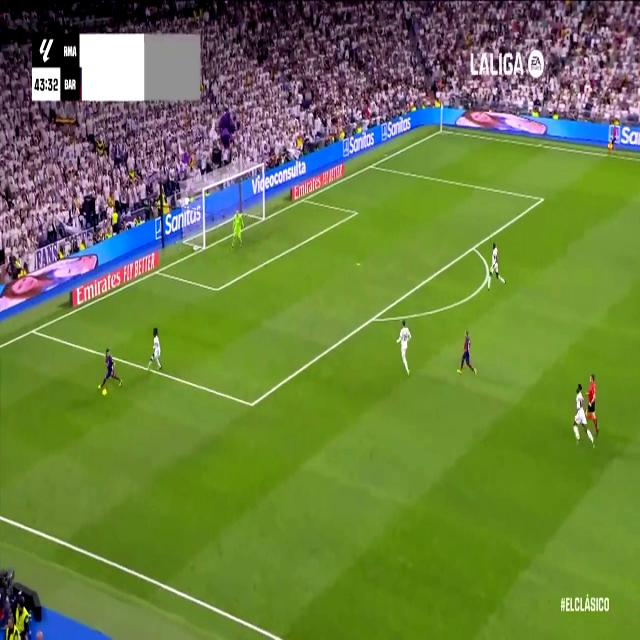bigarea_bottom_inner: (247, 392, 257, 416)
bigarea_bottom_outter: (28, 322, 38, 339)
bigarea_top_inner: (538, 190, 546, 208)
bigarea_top_outter: (368, 158, 376, 172)
bottom_arc_area_intersection: (368, 307, 378, 329)
corner: (437, 124, 446, 136)
smallarea_bottom_inner: (213, 280, 221, 298)
smallarea_top_inner: (352, 205, 360, 219)
top_arc_area_intersection: (469, 238, 478, 255)
